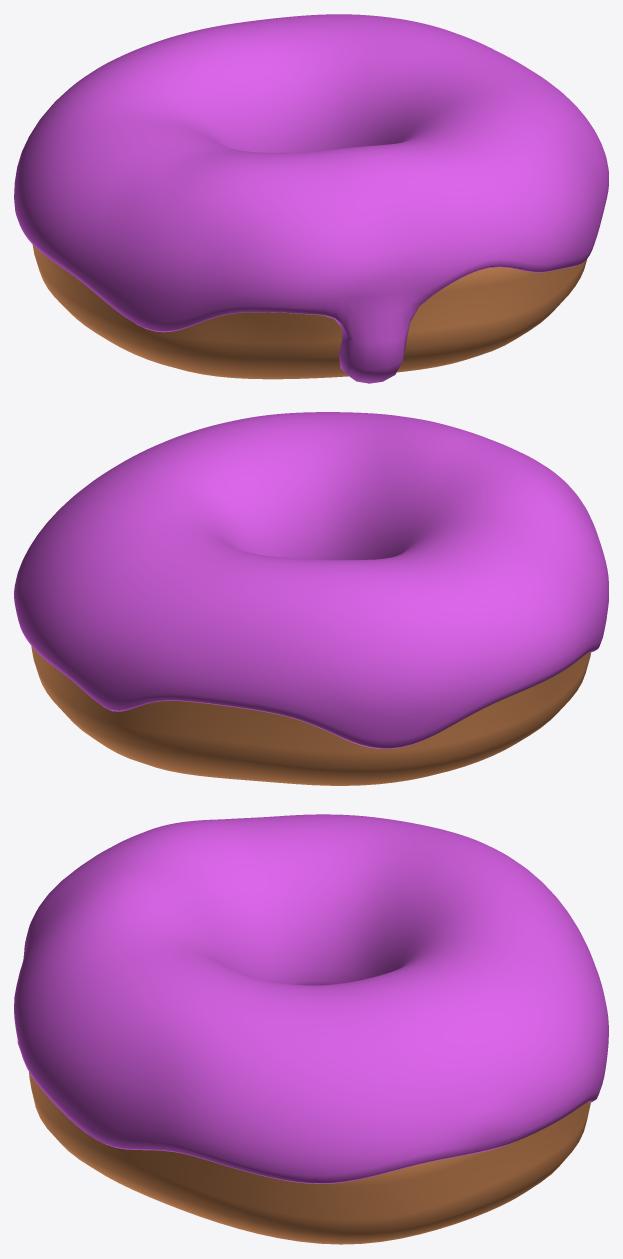
Rendered from donut.glb.
3 views of the same model, one above another, from view 1: azimuth 30°, elevation 25°; view 2: azimuth 150°, elevation 25°; view 3: azimuth 270°, elevation 25° (orthographic). The views are drawn at different scales.
Visible parts, largest first — view 1: icing, donut; view 2: icing, donut; view 3: icing, donut.
Boxes of the visible parts, bbox=[...] form: icing: bbox=[14, 14, 608, 383]; donut: bbox=[32, 245, 586, 379]; icing: bbox=[14, 412, 608, 748]; donut: bbox=[31, 646, 591, 785]; icing: bbox=[14, 814, 608, 1183]; donut: bbox=[29, 1072, 590, 1244].
Bounding box in the file's own units: 0.6514 × 0.2685 × 0.5909.
